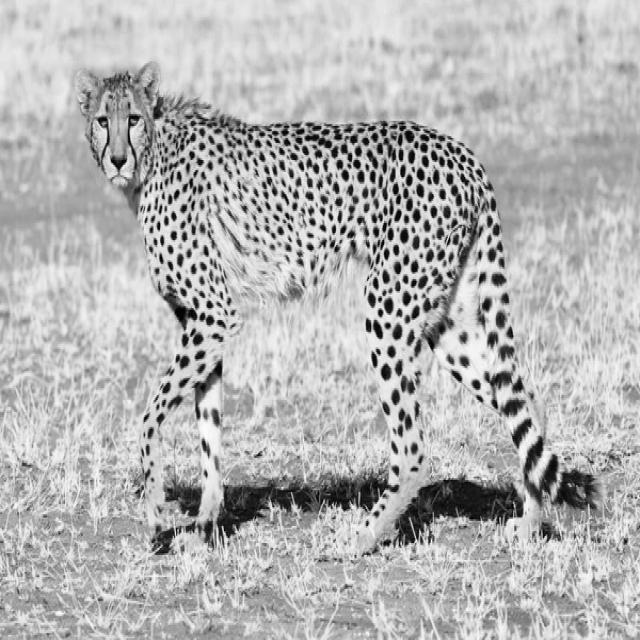Animal: (76, 63, 607, 552)
